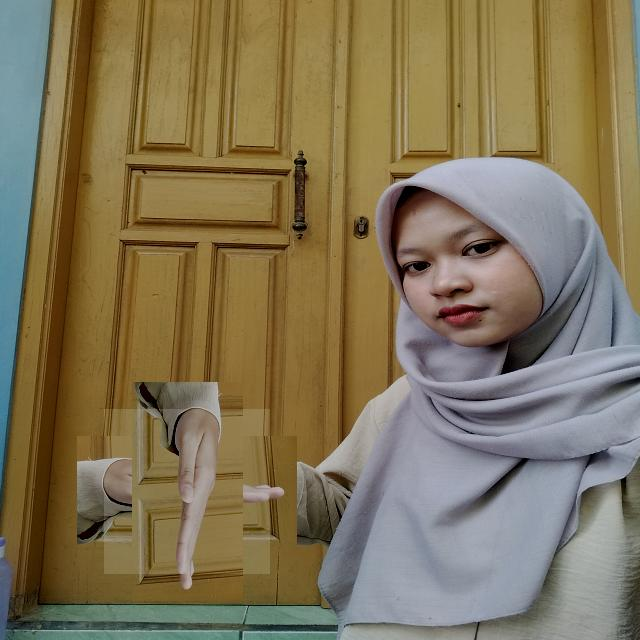adik: (104, 409, 270, 574)
